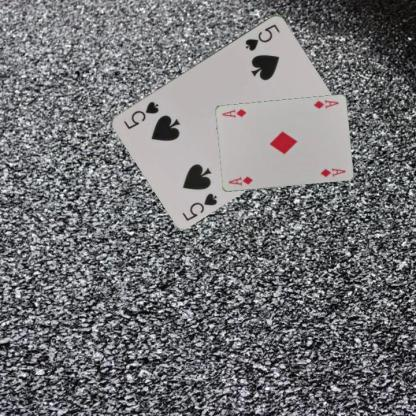5s: (180, 189, 219, 222), (242, 21, 281, 52)
Ad: (311, 97, 340, 110), (226, 174, 254, 187)
